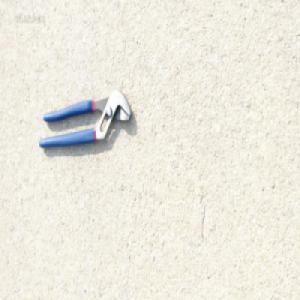Pliers: (38, 87, 133, 151)
